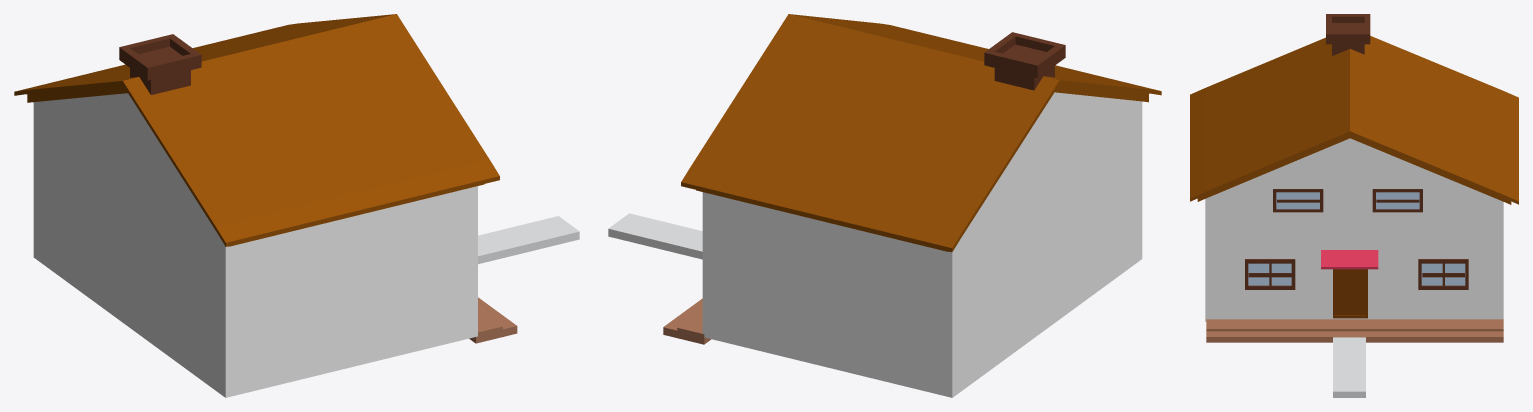
Rendered from Casa5.fbx.
The picture shows the model from 3 angles, left to right: view 1: azimuth 30°, elevation 25°; view 2: azimuth 150°, elevation 25°; view 3: azimuth 270°, elevation 25°; orthographic projection. The views are drawn at different scales.
Visible parts, largest first — view 1: Cube.052; view 2: Cube.052; view 3: Cube.052.
Part boxes in pixels (bbox=[...]): Cube.052: bbox=[14, 14, 579, 397]; Cube.052: bbox=[608, 14, 1161, 397]; Cube.052: bbox=[1190, 14, 1518, 397].
Bounding box in the file's own units: 1649 × 994 × 1356.
